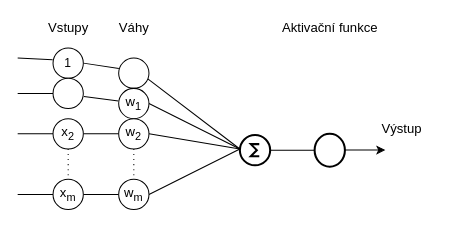
Image size: 449x227. Some labels were removed from this diagram. Each missing label, with the centre of its shape:
af: (329,149)
w 0: (133,72)
x 1: (67,93)
